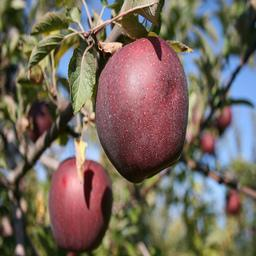apple: (96, 37, 189, 183), (47, 158, 113, 250)
